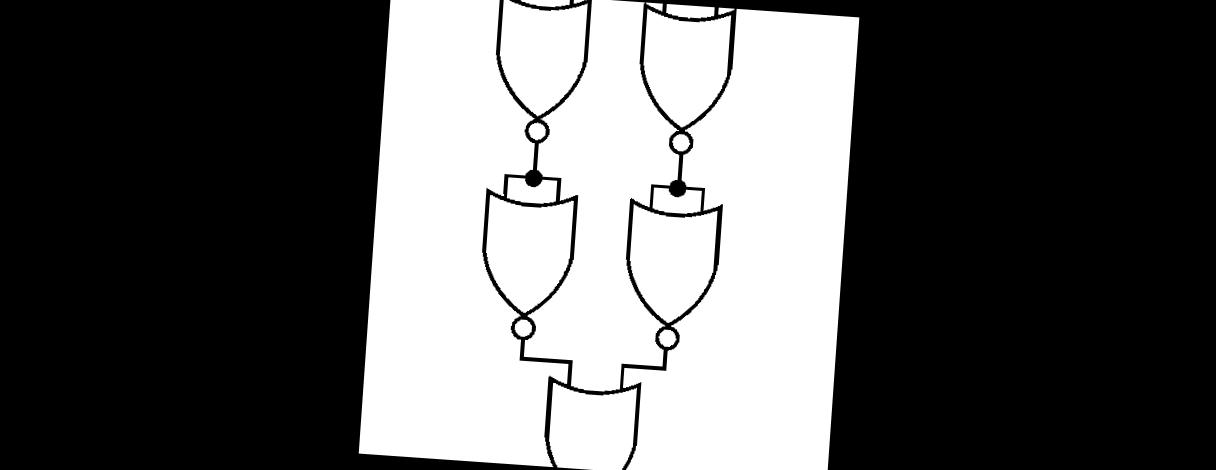nor: (623, 2, 742, 166), (467, 184, 584, 350), (613, 193, 727, 359), (481, 0, 597, 151), (533, 368, 645, 470)
